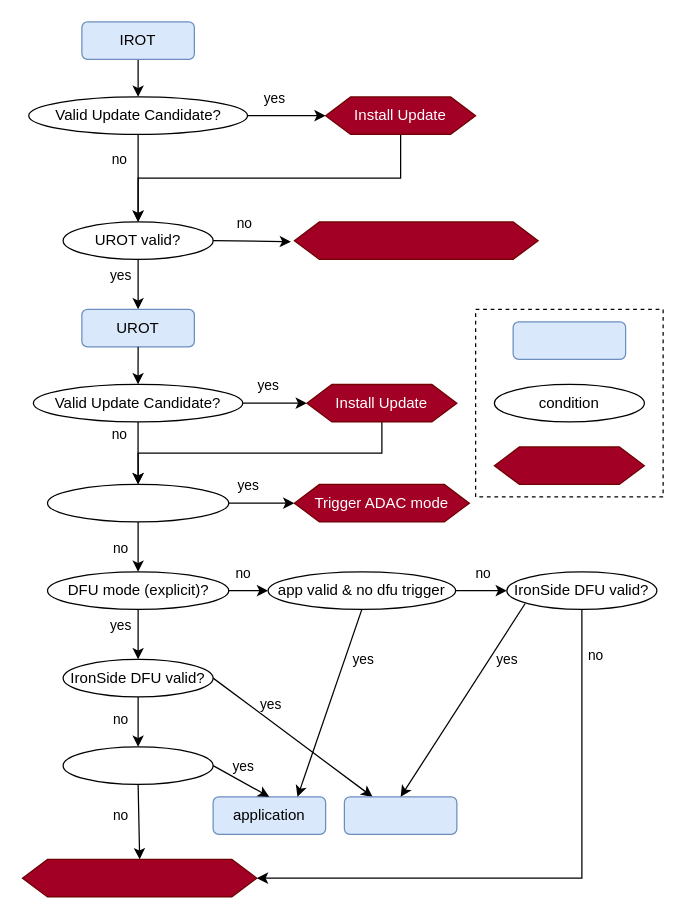
Image size: 685x919. Some labels were removed from this diagram. Here are the shapes that lost their labels. From the top down, the centre of each, then its label:
At point (415, 240): "report IROT error to MAILBOX".
At point (569, 340): "booted image".
At point (568, 465): "action".
At point (137, 502): "ADAC mode?".
At point (137, 765): "application valid?".
At point (400, 815): "IronSide DFU".
At point (139, 877): "report UROT error to MAILBOX".
